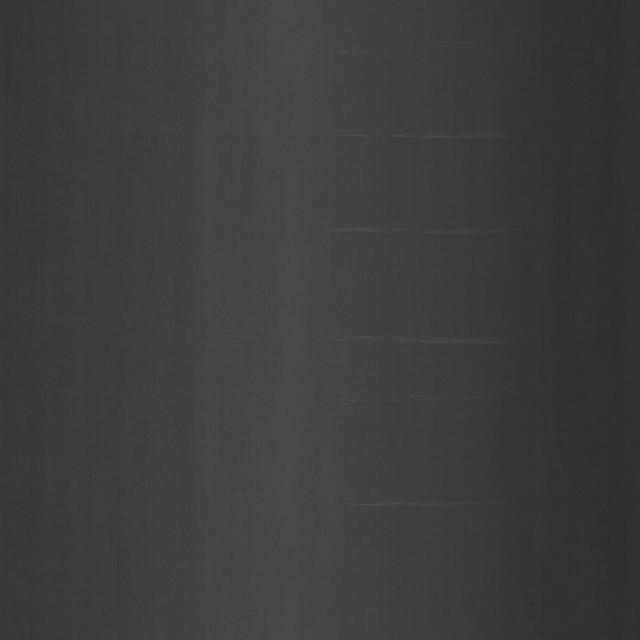punching_hole: (346, 72, 541, 533)
